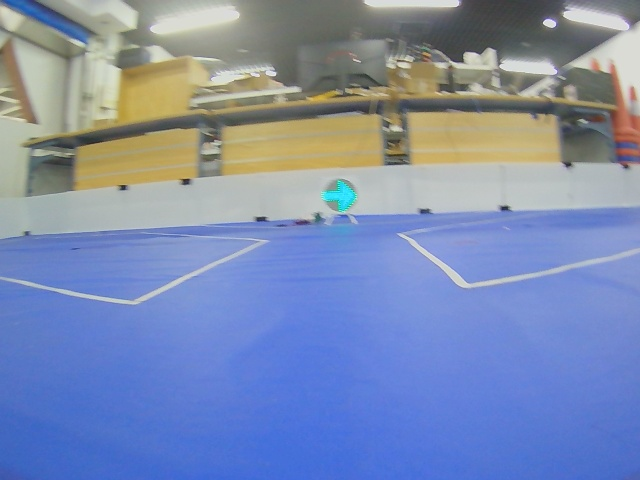right_green: (321, 179, 358, 213)
